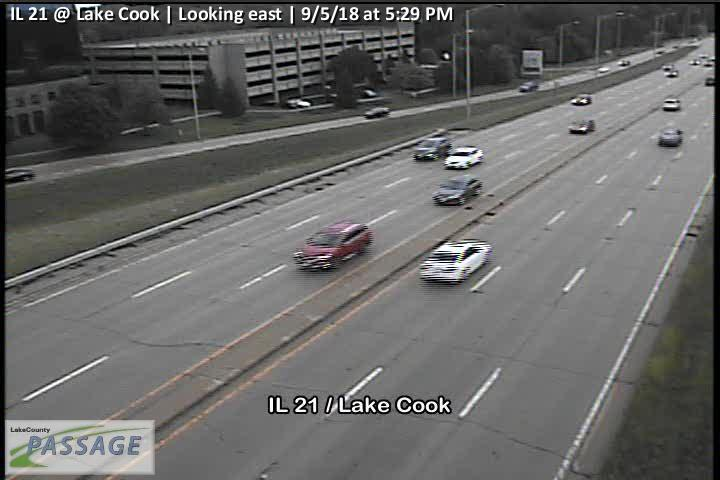SUV: (294, 218, 373, 270), (413, 136, 452, 160)
Sedan: (419, 239, 493, 285), (433, 175, 483, 205), (444, 146, 484, 170), (5, 166, 36, 182), (658, 127, 683, 146), (567, 117, 595, 133), (363, 106, 390, 118), (662, 97, 681, 110)
